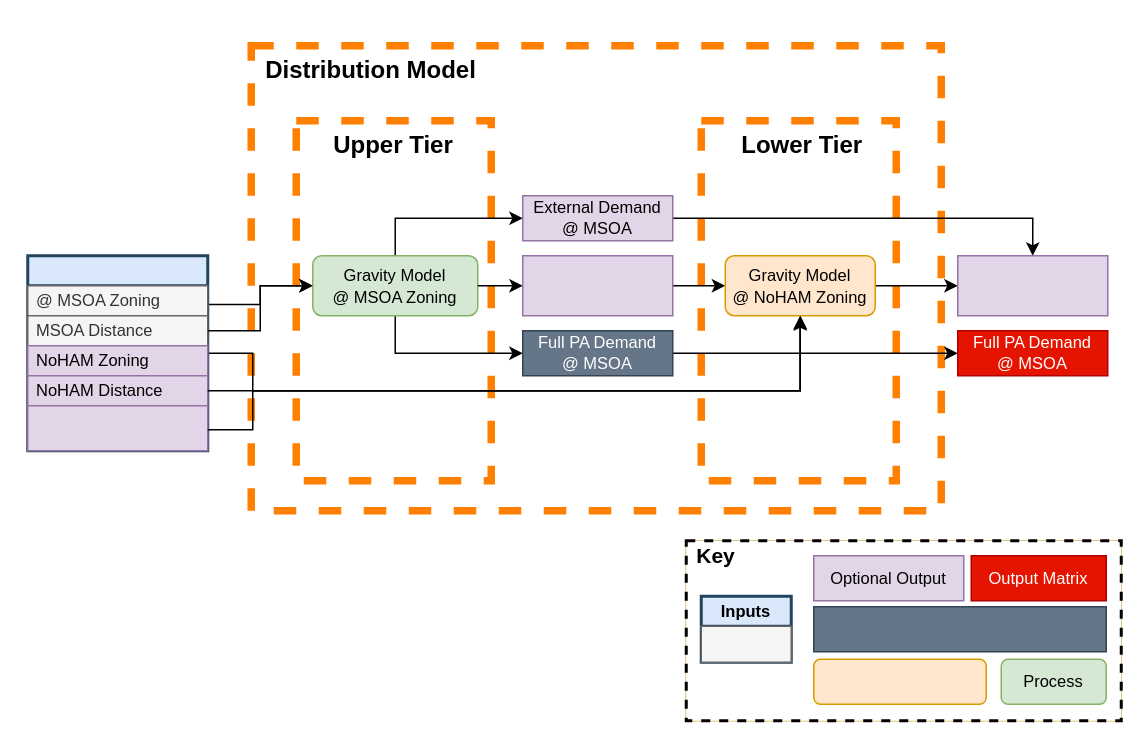
The diagram is 1148 pixels wide and 747 high, and some of its shapes have lost their labels. Each missing label, with the box of its shape:
Car: (26, 254, 208, 452)
Full PA Demand @ NoHAM: (956, 254, 1108, 316)
Input Info: (700, 625, 791, 662)
Intermediate Output: (812, 605, 1106, 652)
Internal Demand Vectors @ MSOA: (521, 254, 673, 316)
MSOA to NoHAM Translation: (26, 404, 208, 451)
Optional Process: (812, 658, 986, 704)
